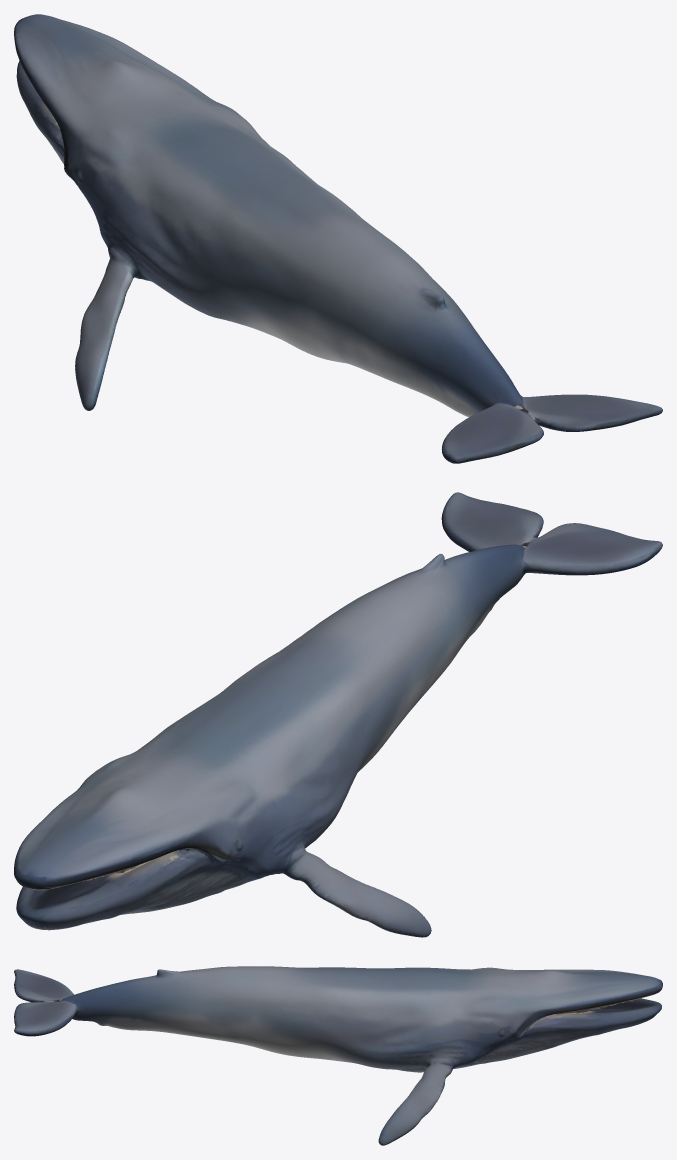
File: BlueWhale.glb
The picture shows the model from 3 angles, top to bottom: view 1: azimuth 30°, elevation 25°; view 2: azimuth 150°, elevation 25°; view 3: azimuth 270°, elevation 25°; orthographic projection. The views are drawn at different scales.
Visible parts, largest first — view 1: tripo_node_513c42bc-2be5-4475-b40c-3869e5c26796; view 2: tripo_node_513c42bc-2be5-4475-b40c-3869e5c26796; view 3: tripo_node_513c42bc-2be5-4475-b40c-3869e5c26796.
Boxes of the visible parts, bbox=[...] form: tripo_node_513c42bc-2be5-4475-b40c-3869e5c26796: bbox=[14, 14, 662, 463]; tripo_node_513c42bc-2be5-4475-b40c-3869e5c26796: bbox=[14, 492, 662, 937]; tripo_node_513c42bc-2be5-4475-b40c-3869e5c26796: bbox=[14, 966, 662, 1145].
Size of the model in its own units: 0.3746 by 0.2142 by 1.
1 material, 1 textured.
